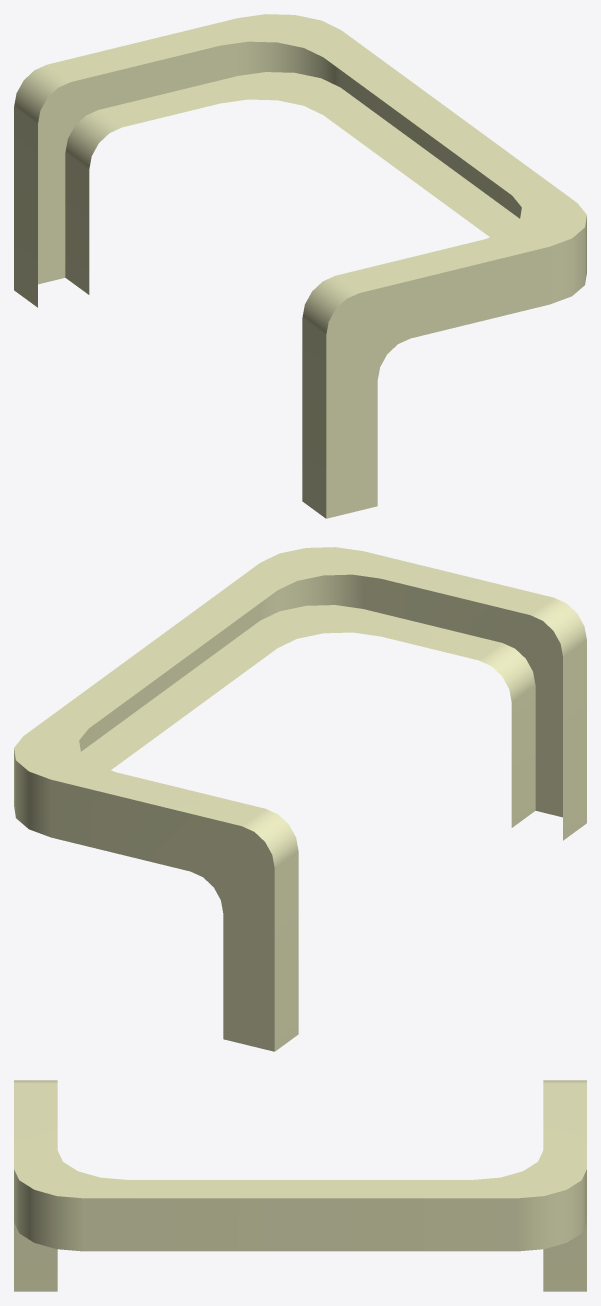
File: Light_Decor10.glb
3 views of the same model, one above another, from view 1: azimuth 30°, elevation 25°; view 2: azimuth 150°, elevation 25°; view 3: azimuth 270°, elevation 25° (orthographic). The views are drawn at different scales.
Parts seen in each view (by area): view 1: buildings_light_decor_09_geo; view 2: buildings_light_decor_09_geo; view 3: buildings_light_decor_09_geo.
Boxes of the visible parts, x1,y1,x2,y2 form: buildings_light_decor_09_geo: (14, 14, 586, 518); buildings_light_decor_09_geo: (14, 547, 586, 1051); buildings_light_decor_09_geo: (14, 1080, 586, 1291).
Size of what is drawn, in the model's own units: 6.41 by 4.61 by 11.98.
1 material, 1 textured.
